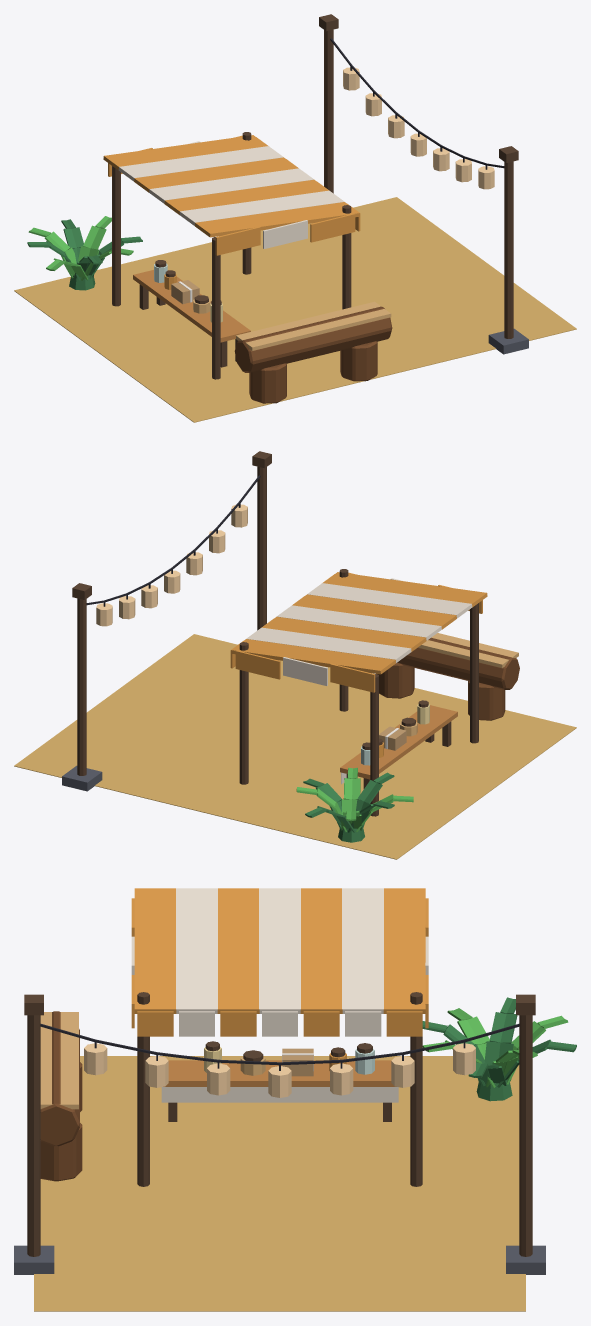
Rendered from CatCafe_Camp_Woods_Growth.glb.
3 renders of one model, top to bottom at view 1: azimuth 30°, elevation 25°; view 2: azimuth 150°, elevation 25°; view 3: azimuth 270°, elevation 25°, orthographic. The views are drawn at different scales.
Parts seen in each view (by area): view 1: CatCafe_Camp_Woods_Growth, CatCafe_Camp_Woods_Growth_000_Stall, CatCafe_Camp_Woods_Growth_002_LogBench, CatCafe_Camp_Woods_Growth_001_Lanterns, CatCafe_Camp_Woods_Growth_003_Fern, CatCafe_Camp_Woods_Growth_001_Lanterns_Bulbs, CatCafe_Camp_Woods_Growth_000_Stall_Decor, CatCafe_Camp_Woods_Growth_001_Lanterns_Decor; view 2: CatCafe_Camp_Woods_Growth, CatCafe_Camp_Woods_Growth_000_Stall, CatCafe_Camp_Woods_Growth_002_LogBench, CatCafe_Camp_Woods_Growth_001_Lanterns, CatCafe_Camp_Woods_Growth_003_Fern, CatCafe_Camp_Woods_Growth_001_Lanterns_Bulbs, CatCafe_Camp_Woods_Growth_000_Stall_Decor, CatCafe_Camp_Woods_Growth_001_Lanterns_Decor; view 3: CatCafe_Camp_Woods_Growth, CatCafe_Camp_Woods_Growth_000_Stall, CatCafe_Camp_Woods_Growth_001_Lanterns, CatCafe_Camp_Woods_Growth_002_LogBench, CatCafe_Camp_Woods_Growth_003_Fern, CatCafe_Camp_Woods_Growth_001_Lanterns_Bulbs, CatCafe_Camp_Woods_Growth_000_Stall_Decor, CatCafe_Camp_Woods_Growth_001_Lanterns_Decor.
Boxes of the visible parts, x1,y1,x2,y2 form: CatCafe_Camp_Woods_Growth: [14, 197, 576, 422]; CatCafe_Camp_Woods_Growth_000_Stall: [103, 132, 360, 379]; CatCafe_Camp_Woods_Growth_002_LogBench: [234, 301, 392, 403]; CatCafe_Camp_Woods_Growth_001_Lanterns: [319, 14, 528, 354]; CatCafe_Camp_Woods_Growth_003_Fern: [27, 216, 142, 290]; CatCafe_Camp_Woods_Growth_001_Lanterns_Bulbs: [343, 67, 494, 189]; CatCafe_Camp_Woods_Growth_000_Stall_Decor: [154, 260, 222, 322]; CatCafe_Camp_Woods_Growth_001_Lanterns_Decor: [330, 38, 504, 169]; CatCafe_Camp_Woods_Growth: [14, 634, 576, 859]; CatCafe_Camp_Woods_Growth_000_Stall: [230, 569, 487, 816]; CatCafe_Camp_Woods_Growth_002_LogBench: [377, 633, 519, 720]; CatCafe_Camp_Woods_Growth_001_Lanterns: [62, 451, 271, 791]; CatCafe_Camp_Woods_Growth_003_Fern: [296, 767, 413, 842]; CatCafe_Camp_Woods_Growth_001_Lanterns_Bulbs: [96, 504, 247, 626]; CatCafe_Camp_Woods_Growth_000_Stall_Decor: [361, 700, 429, 765]; CatCafe_Camp_Woods_Growth_001_Lanterns_Decor: [86, 475, 260, 606]; CatCafe_Camp_Woods_Growth: [34, 1056, 525, 1311]; CatCafe_Camp_Woods_Growth_000_Stall: [131, 888, 428, 1186]; CatCafe_Camp_Woods_Growth_001_Lanterns: [14, 994, 545, 1274]; CatCafe_Camp_Woods_Growth_002_LogBench: [40, 1011, 82, 1181]; CatCafe_Camp_Woods_Growth_003_Fern: [422, 997, 576, 1101]; CatCafe_Camp_Woods_Growth_001_Lanterns_Bulbs: [84, 1043, 475, 1097]; CatCafe_Camp_Woods_Growth_000_Stall_Decor: [204, 1041, 374, 1076]; CatCafe_Camp_Woods_Growth_001_Lanterns_Decor: [40, 1024, 519, 1070].
Size of the model in its own units: 13.5 by 6.6 by 12.59.
1 material, 1 textured.
